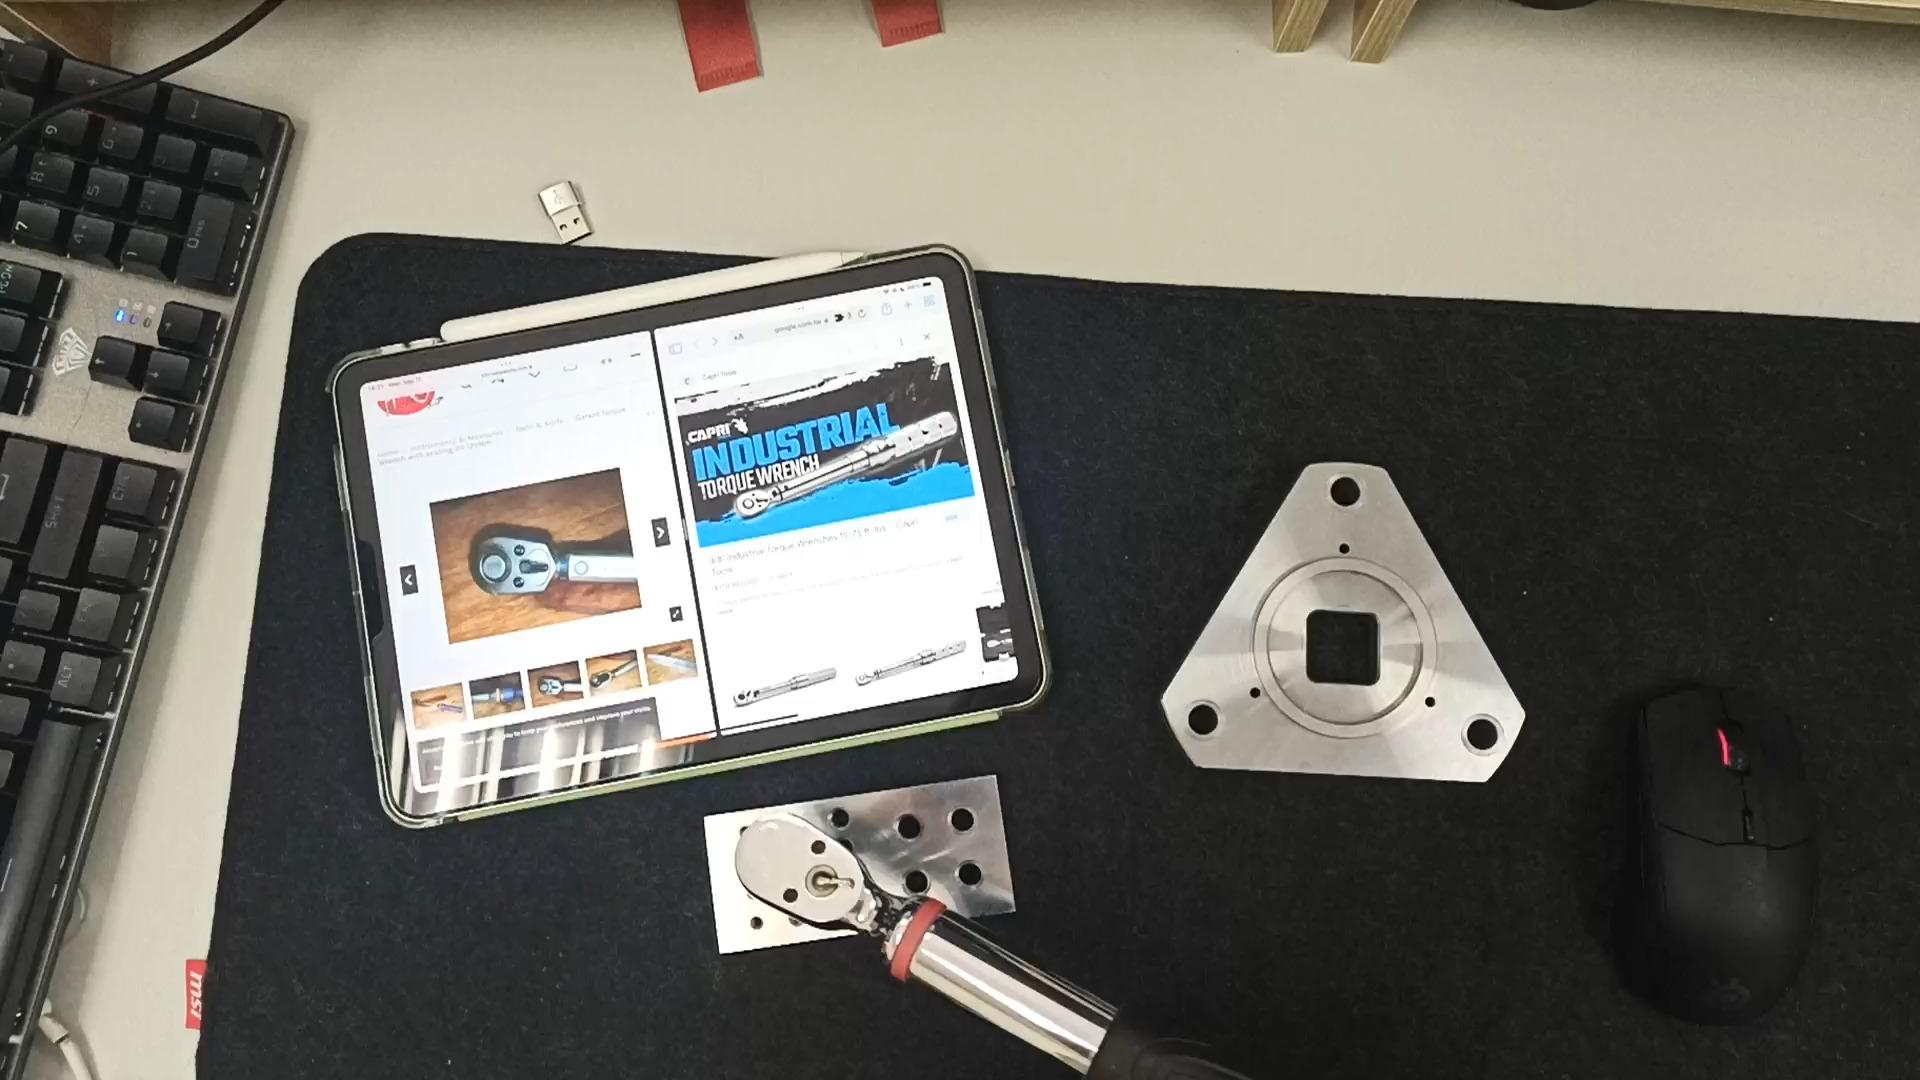Tool: (732, 815, 926, 980), (464, 527, 564, 597), (732, 487, 781, 520)
hole: (1445, 717, 1515, 765), (1319, 475, 1377, 518), (1171, 705, 1228, 748), (926, 810, 981, 844), (882, 869, 938, 901), (938, 857, 990, 890), (878, 814, 931, 845), (804, 806, 851, 833), (777, 915, 808, 934), (732, 916, 764, 934)
